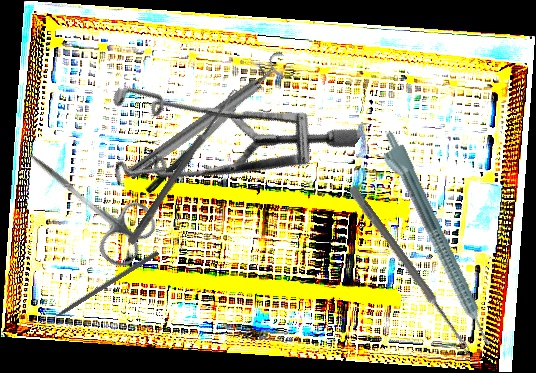Fixation Ring: (119, 48, 298, 188)
Handpiece: (372, 128, 496, 354)
Hook Surgical: (40, 249, 160, 327)
Iris Scissors: (6, 129, 164, 273)
Spatula Surgical: (134, 63, 276, 196)
Speculum: (73, 3, 365, 283)
Surgical Spoon: (346, 184, 475, 356), (127, 86, 239, 247)
